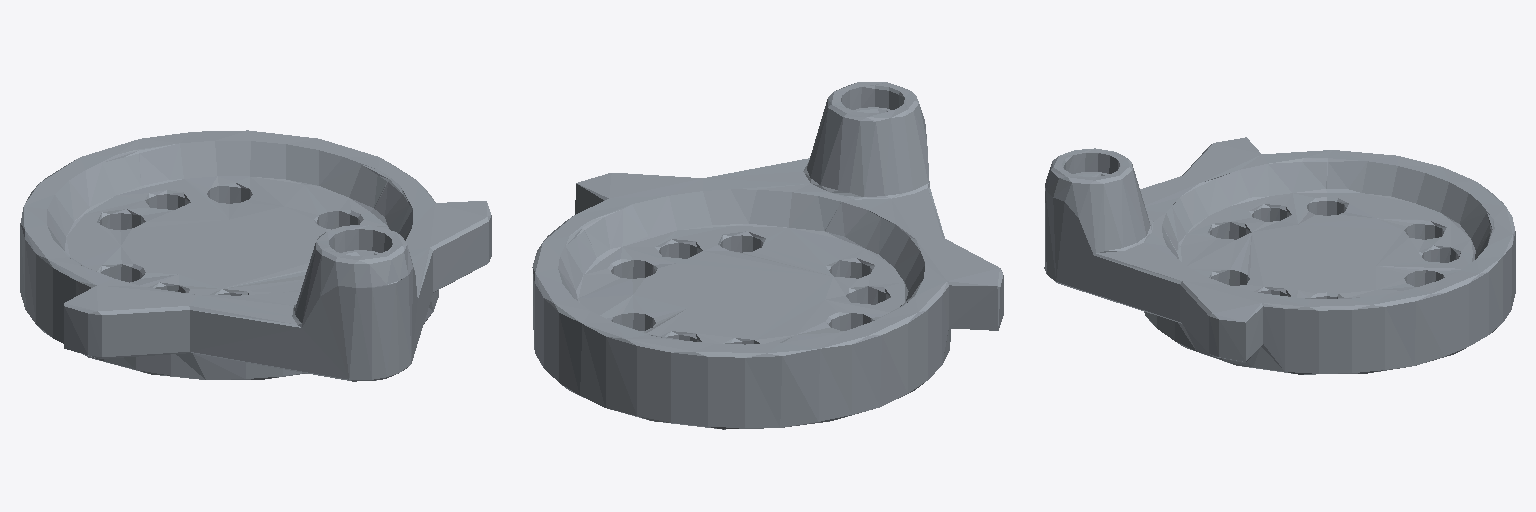
robot.urdf — tam do:
<?xml version="1.0" encoding="utf-8"?>
<!-- This URDF was automatically created by SolidWorks to URDF Exporter! Originally created by Stephen Brawner (brawner@gmail.com) 
     Commit Version: 1.6.0-4-g7f85cfe  Build Version: 1.6.7995.38578
     For more information, please see http://wiki.ros.org/sw_urdf_exporter -->
<robot
  name="tam do">
  <link
    name="base_link">
    <inertial>
      <origin
        xyz="1.77658459713406E-08 -0.00074663721160608 0.00490903641705075"
        rpy="0 0 0" />
      <mass
        value="0.0515689203673196" />
      <inertia
        ixx="9.82192410744534E-06"
        ixy="-5.21999325589849E-12"
        ixz="-1.66974716555758E-11"
        iyy="1.58267503072536E-05"
        iyz="-7.3841051257122E-07"
        izz="6.6871111971795E-06" />
    </inertial>
    <visual>
      <origin
        xyz="0 0 0"
        rpy="0 0 0" />
      <geometry>
        <mesh
          filename="package://tam do/meshes/base_link.STL" />
      </geometry>
      <material
        name="">
        <color
          rgba="0.615686274509804 0.643137254901961 0.674509803921569 1" />
      </material>
    </visual>
    <collision>
      <origin
        xyz="0 0 0"
        rpy="0 0 0" />
      <geometry>
        <mesh
          filename="package://tam do/meshes/base_link.STL" />
      </geometry>
    </collision>
  </link>
</robot>

--- Render facts (derived) ---
The picture shows the robot from 3 angles, left to right: view 1: azimuth 30°, elevation 25°; view 2: azimuth 150°, elevation 25°; view 3: azimuth 270°, elevation 25°; orthographic projection.
Model tam do with 1 links and 0 joints (none), rooted at base_link, posed all joints at 0.
Visible links, largest first — view 1: base_link; view 2: base_link; view 3: base_link.
Link boxes in pixels (<box>): base_link: <box>20,130,491,381</box>; base_link: <box>532,82,1003,429</box>; base_link: <box>1044,137,1515,374</box>.
Bounding box of the posed robot: 0.0468 × 0.05 × 0.0155 m (x, y, z).
Meshes: 1 distinct files referenced, 1 mesh visuals loaded (1 binary STL).
